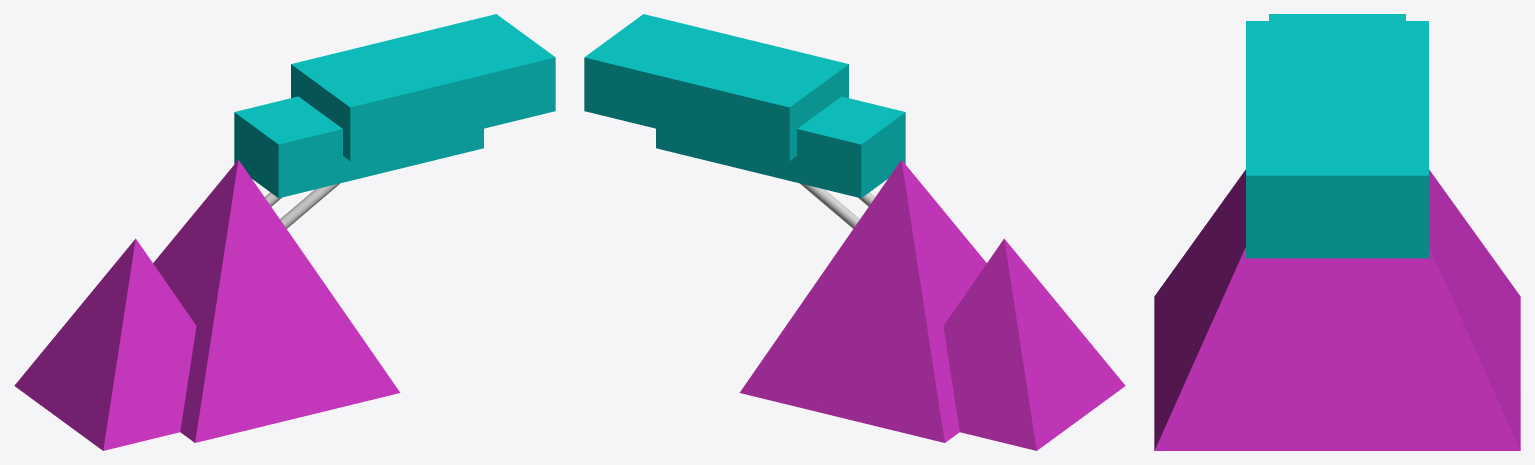
File: mountain_openDoor.fbx
The picture shows the model from 3 angles, left to right: view 1: azimuth 30°, elevation 25°; view 2: azimuth 150°, elevation 25°; view 3: azimuth 270°, elevation 25°; orthographic projection. The views are drawn at different scales.
Visible parts, largest first — view 1: Plane.001; view 2: Plane.001; view 3: Plane.001.
Boxes of the visible parts, x1,y1,x2,y2 form: Plane.001: (14, 14, 555, 450); Plane.001: (584, 14, 1125, 450); Plane.001: (1154, 14, 1520, 450).
Size of the model in its own units: 455 by 251 by 200.
